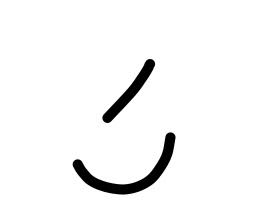i: (87, 44, 167, 124)
